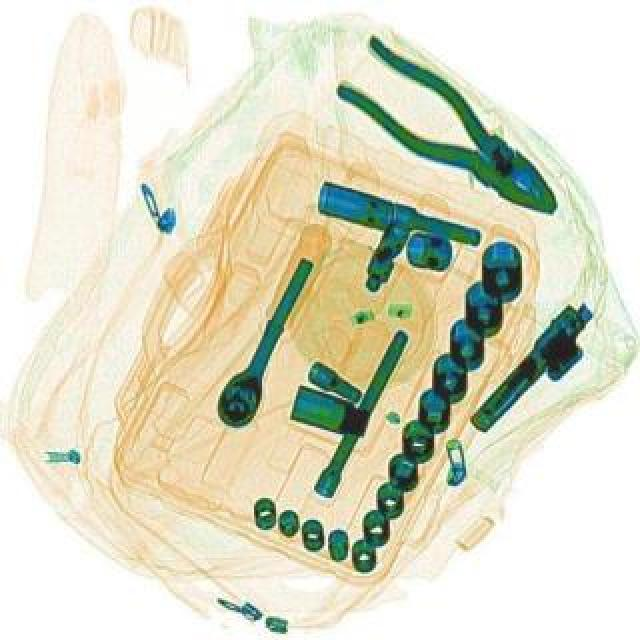gun: (458, 292, 612, 444)
wrench: (324, 28, 580, 242)
